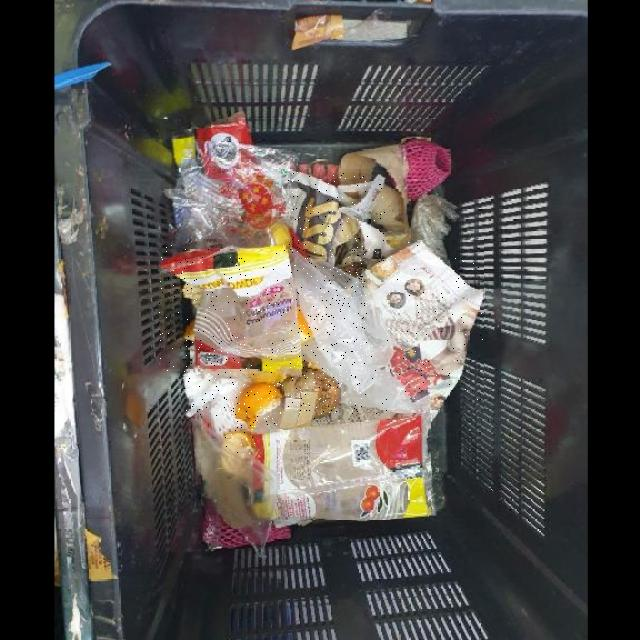biowaste: (234, 382, 283, 431), (313, 372, 341, 418), (225, 432, 257, 455)
paper: (368, 239, 484, 412), (287, 172, 386, 265), (183, 368, 238, 417)
plastic: (289, 247, 416, 414)
wrapper: (251, 415, 429, 521), (159, 245, 302, 376)
